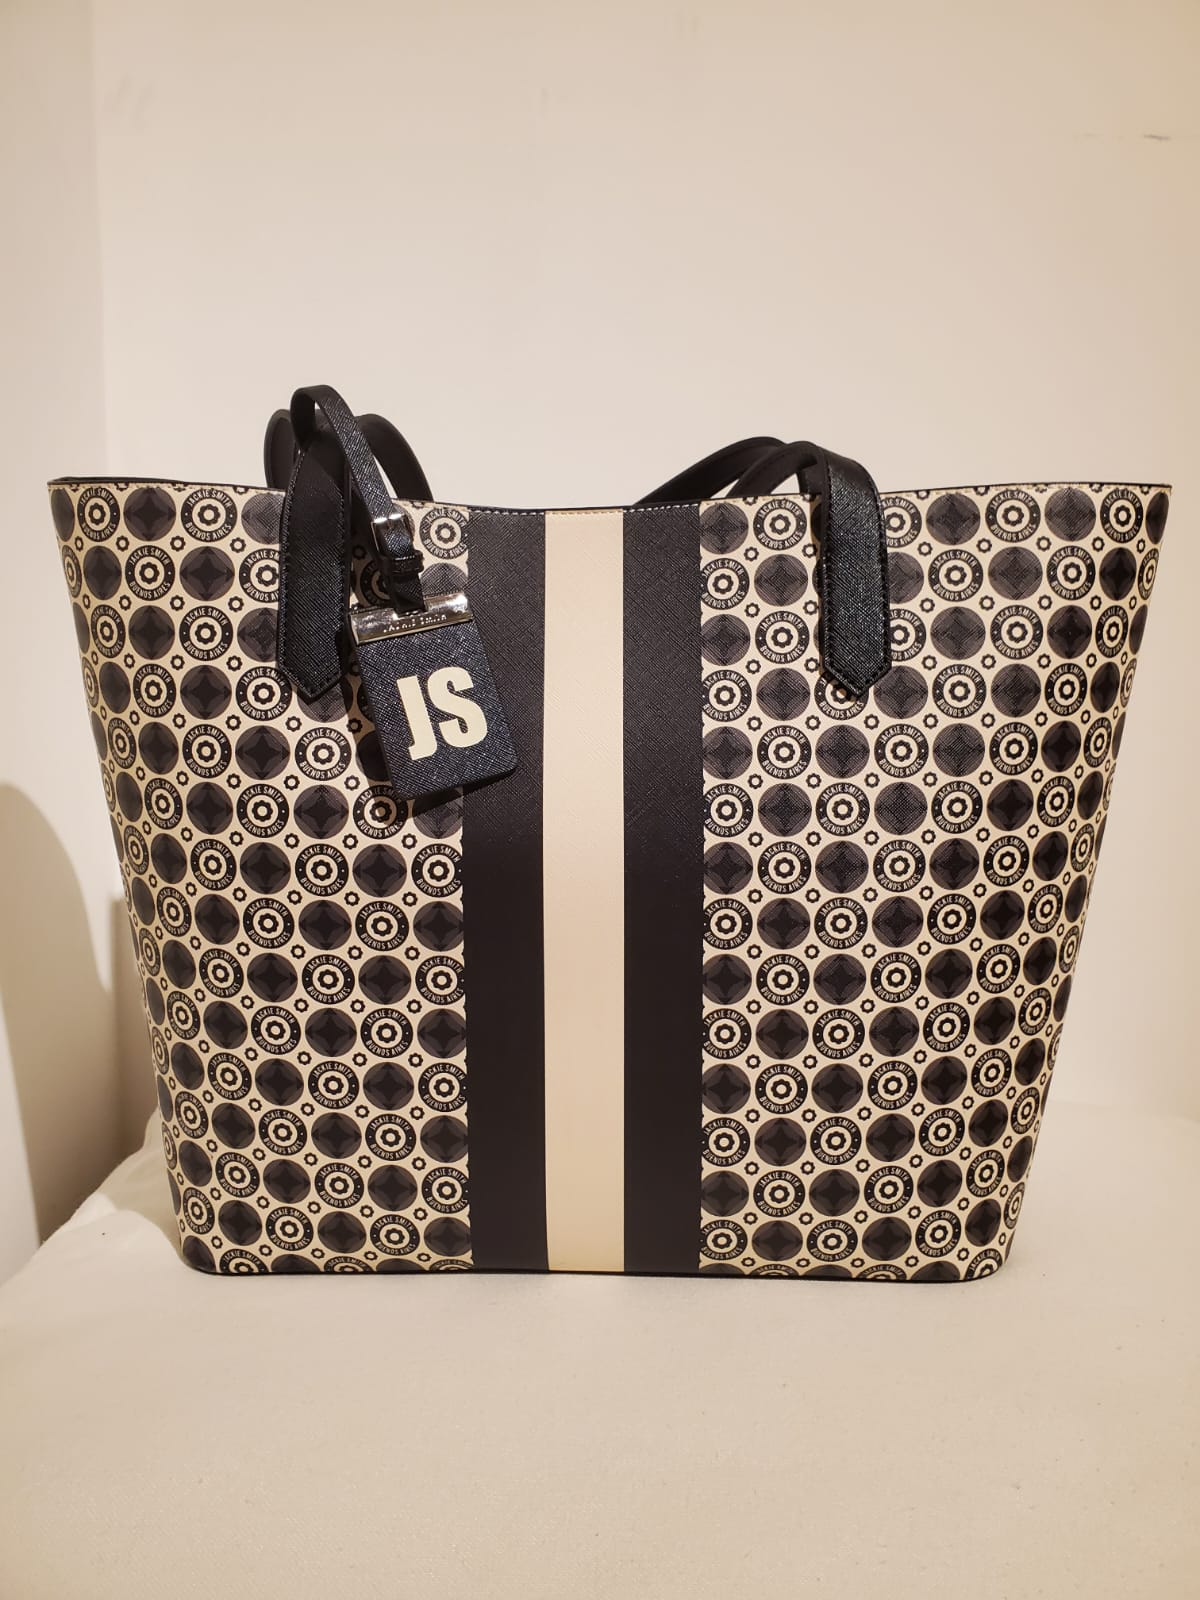cartera: (25, 380, 1187, 1338)
cuero: (192, 520, 1007, 1261)
